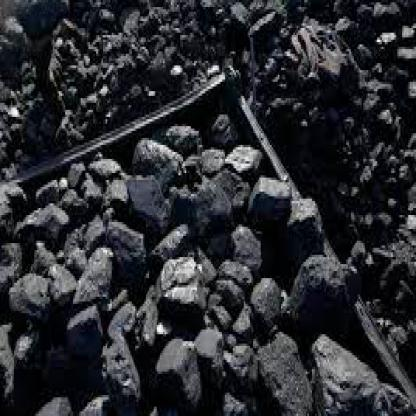Sedimentary_coal: (286, 248, 362, 330), (250, 325, 317, 414), (315, 334, 385, 414), (156, 330, 204, 414), (102, 322, 140, 412), (127, 131, 199, 175), (72, 234, 116, 306), (165, 252, 206, 314), (13, 264, 54, 316), (250, 176, 293, 224), (129, 168, 166, 220), (250, 271, 287, 320), (230, 136, 272, 178), (26, 390, 80, 414)
